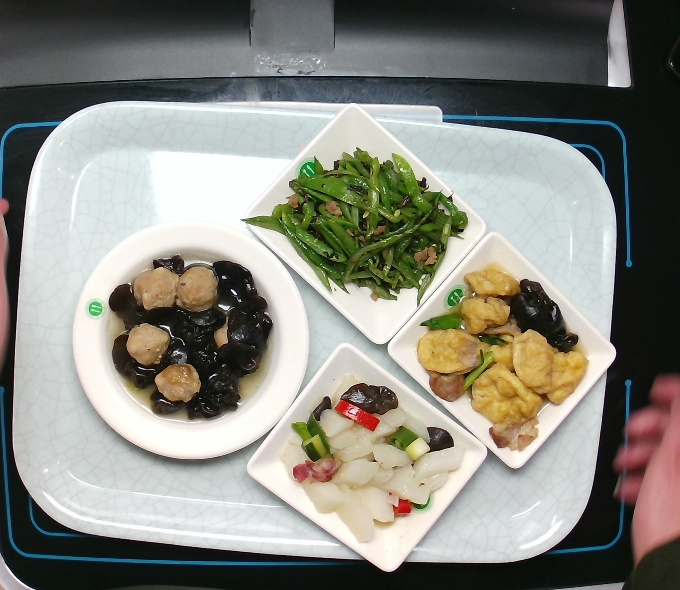wcq-MuErWanZi: (104, 247, 278, 425)
wcq-ShanYao: (288, 366, 442, 542)
wcq-SiJiDouChaoRou: (253, 133, 476, 307)
wcq-YouPaoRouPian: (415, 263, 584, 452)
